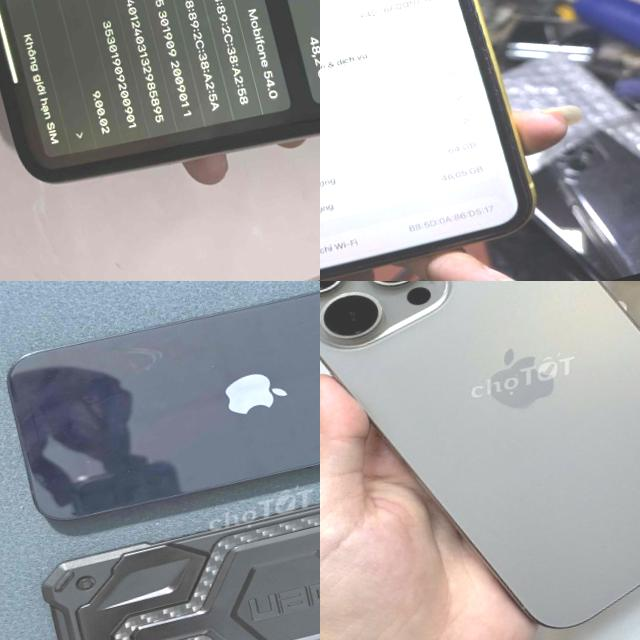gen_11: (320, 0, 557, 281)
gen_14: (0, 281, 320, 555)
gen_16: (320, 281, 640, 627)
gen_x_xs: (0, 0, 320, 181)
scratch: (454, 0, 504, 105), (118, 332, 176, 377)
